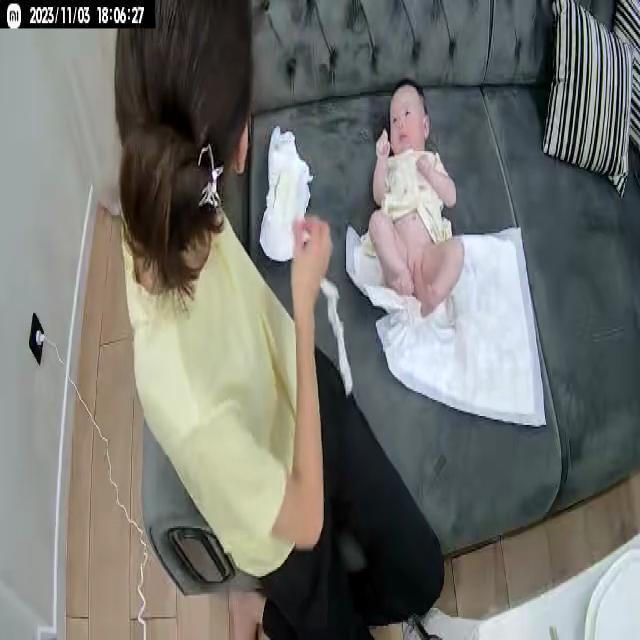baby: (368, 71, 466, 336)
